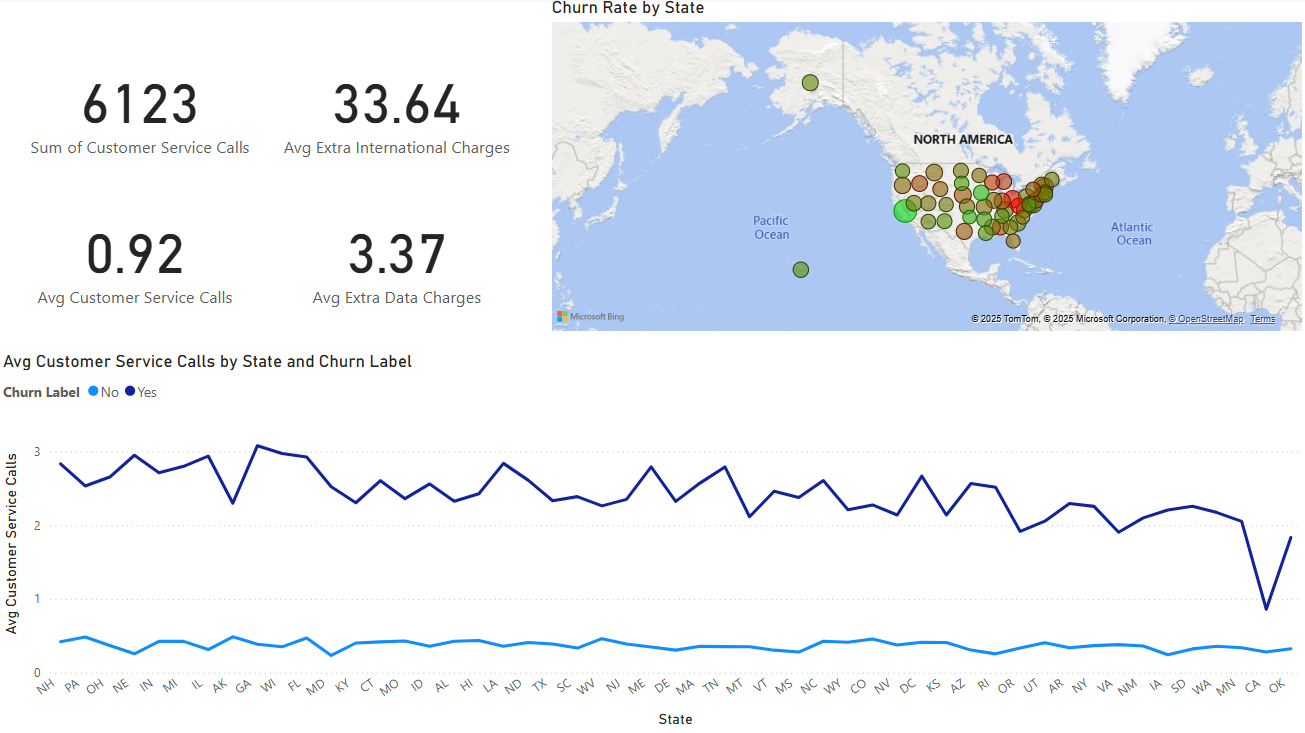

The page's visual inventory and layout, read from the dashboard file:
{"tool":"powerbi","page":{"name":"Insights","canvas":[1280,720],"ordinal":9},"visuals":[{"type":"card","fields":{"Values":["__Measures.Avg Extra Data Charges"]},"box":[268.4,178.9,245.3,152.9],"z":0},{"type":"card","fields":{"Values":["__Measures.Avg Extra International Charges"]},"box":[268.4,37.5,245.3,141.4],"z":1},{"type":"card","fields":{"Values":["__Measures.Avg Customer Service Calls"]},"box":[0,178.9,268.4,152.9],"z":2},{"type":"card","fields":{"Values":["Sum(Databel - Data.Customer Service Calls)"]},"box":[10.1,37.5,258.3,141.4],"z":3},{"type":"map","fields":{"Category":["Databel - Data.State"],"Size":["__Measures.Churn Rate"]},"box":[536.7,0,743,331.8],"z":4},{"type":"lineChart","fields":{"Category":["Databel - Data.State"],"Y":["__Measures.Avg Customer Service Calls"],"Series":["Databel - Data.Churn Label"]},"box":[0,346.3,1279.7,373.7],"z":5}]}

Visuals, with their boxes in screenshot pixels (x1, y1, x2, y2), scaled from the page's 1280x720 canvas onto the 1305x733 screenshot:
card - __Measures.Avg Extra Data Charges: {"x1": 274, "y1": 182, "x2": 524, "y2": 338}
card - __Measures.Avg Extra International Charges: {"x1": 274, "y1": 38, "x2": 524, "y2": 182}
card - __Measures.Avg Customer Service Calls: {"x1": 0, "y1": 182, "x2": 274, "y2": 338}
card - Sum(Databel - Data.Customer Service Calls): {"x1": 10, "y1": 38, "x2": 274, "y2": 182}
map - Databel - Data.State x __Measures.Churn Rate: {"x1": 547, "y1": 0, "x2": 1304, "y2": 338}
lineChart - Databel - Data.State x __Measures.Avg Customer Service Calls: {"x1": 0, "y1": 353, "x2": 1304, "y2": 732}
